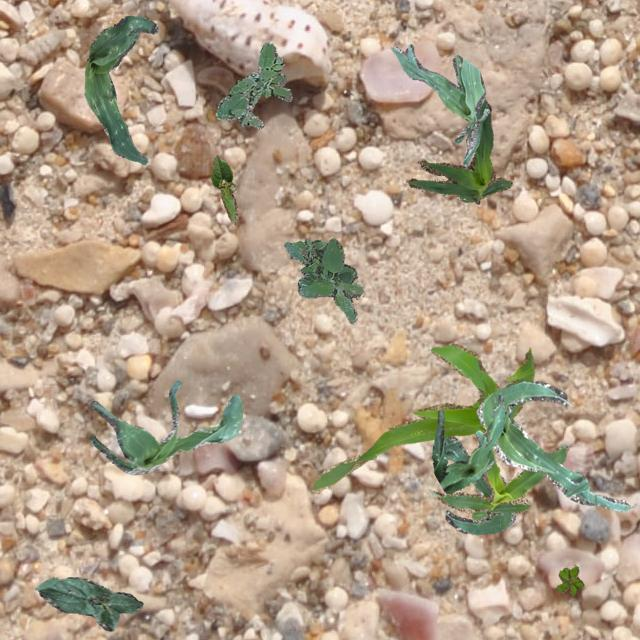crop: (311, 342, 534, 492), (476, 380, 636, 510), (88, 379, 242, 474), (391, 44, 488, 165), (406, 98, 511, 204), (84, 15, 158, 164), (428, 444, 568, 520), (431, 392, 504, 492), (443, 434, 515, 534), (34, 576, 142, 630), (210, 154, 237, 222)
weed: (214, 41, 290, 128), (284, 238, 362, 322), (556, 566, 582, 594)
